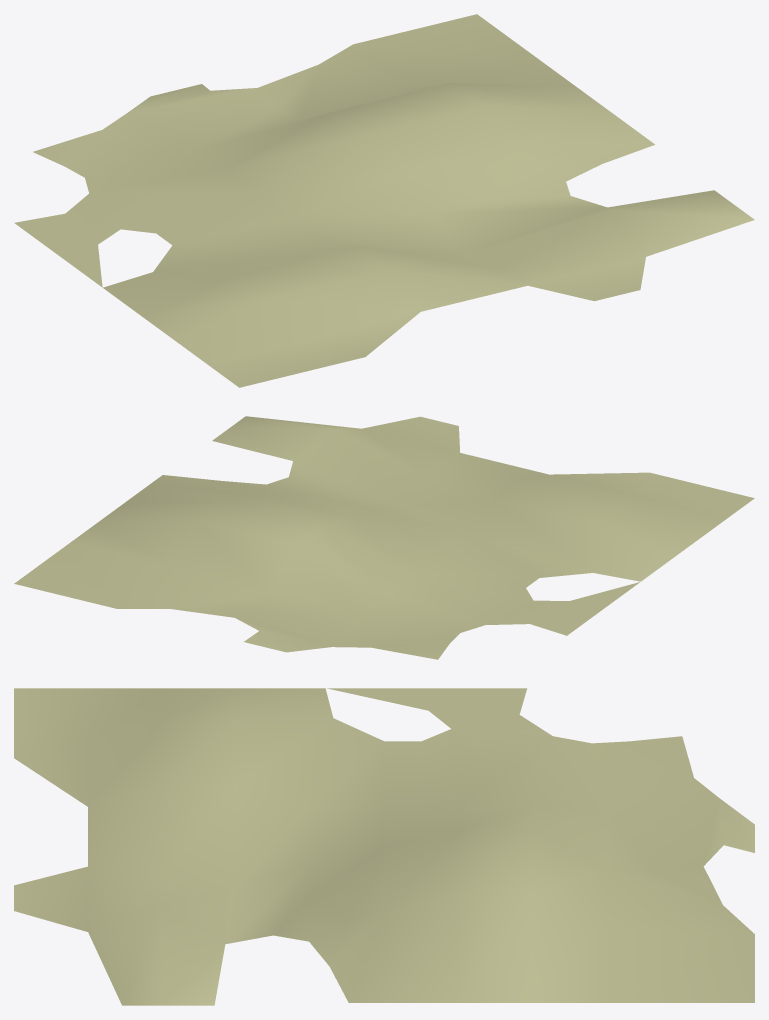
The model's file is Sand_for_tiles.fbx.
3 views of the same model, one above another, from view 1: azimuth 30°, elevation 25°; view 2: azimuth 150°, elevation 25°; view 3: azimuth 270°, elevation 25° (orthographic). The views are drawn at different scales.
Parts seen in each view (by area): view 1: pPlane1; view 2: pPlane1; view 3: pPlane1.
Boxes of the visible parts, box(x1,y1,x2,y2) form: pPlane1: box(14, 14, 754, 387); pPlane1: box(14, 416, 754, 659); pPlane1: box(14, 688, 754, 1005).
Size of the model in its own units: 97.7 by 7.92 by 97.79.
